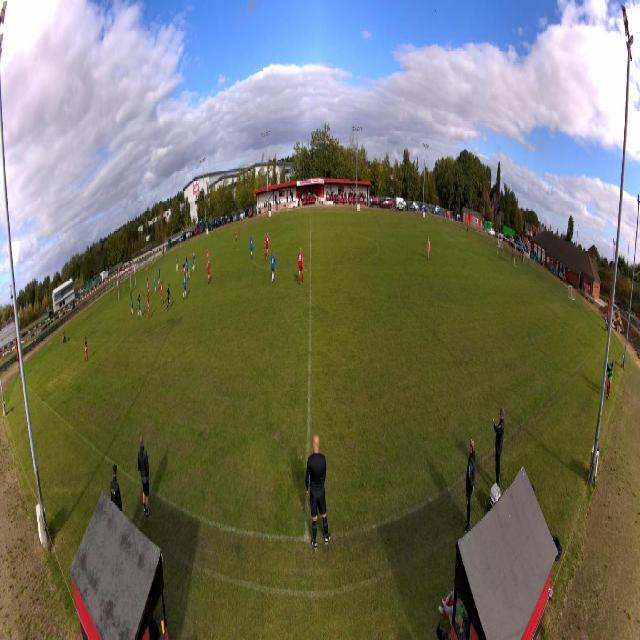ball: (182, 230, 183, 234)
player: (297, 247, 305, 286), (270, 250, 276, 286), (264, 232, 269, 261), (137, 293, 142, 320), (166, 283, 170, 313), (186, 257, 191, 281), (183, 274, 187, 303), (160, 281, 164, 308), (147, 293, 151, 320), (207, 258, 211, 285), (84, 335, 88, 362), (249, 235, 253, 259), (426, 237, 430, 261), (192, 251, 196, 272), (146, 277, 150, 296), (207, 249, 211, 268), (130, 276, 134, 294), (183, 264, 187, 282), (234, 226, 238, 243), (130, 293, 133, 315), (154, 272, 157, 294), (158, 265, 161, 286), (176, 252, 179, 272)
